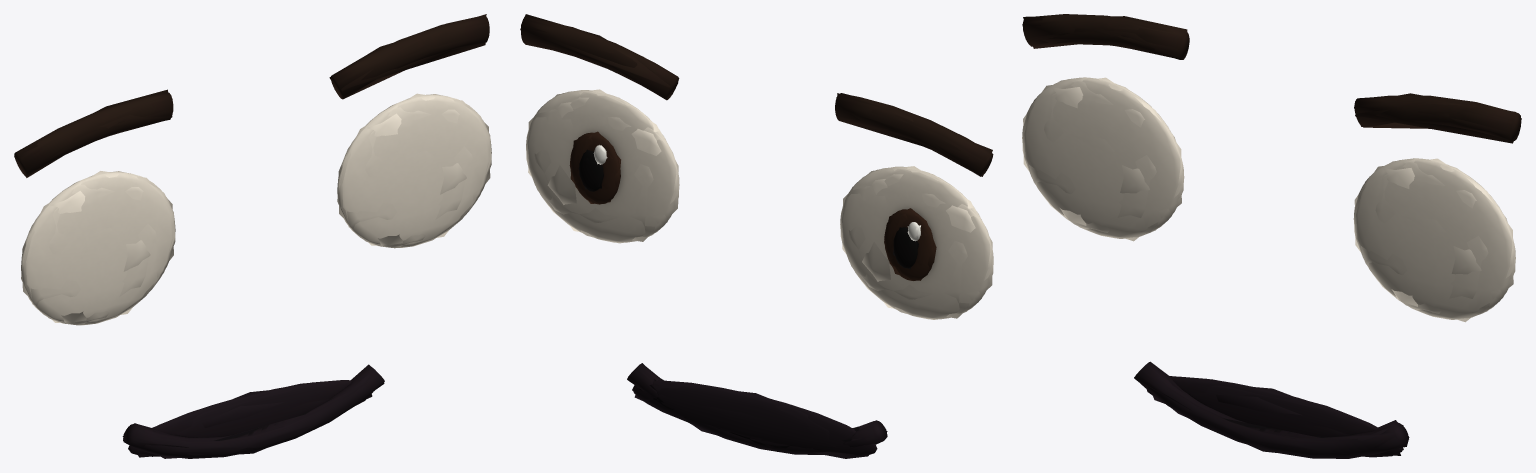
File: happy.glb
3 views of the same model, side by side, from view 1: azimuth 30°, elevation 25°; view 2: azimuth 150°, elevation 25°; view 3: azimuth 330°, elevation 25° (orthographic). The views are drawn at different scales.
Visible parts, largest first — view 1: near, mid, far; view 2: near, mid, far; view 3: near, mid, far.
Part boxes in pixels (<box>): near: <box>14,17,491,458</box>; mid: <box>14,17,491,458</box>; far: <box>17,14,490,458</box>; near: <box>521,18,993,455</box>; mid: <box>521,16,993,456</box>; far: <box>520,14,992,458</box>; near: <box>1022,14,1521,458</box>; mid: <box>1022,14,1520,458</box>; far: <box>1023,16,1521,455</box>.
Size of the model in its own units: 0.6715 by 0.5162 by 0.0541.
Materials: 6 (6 with a texture image).
